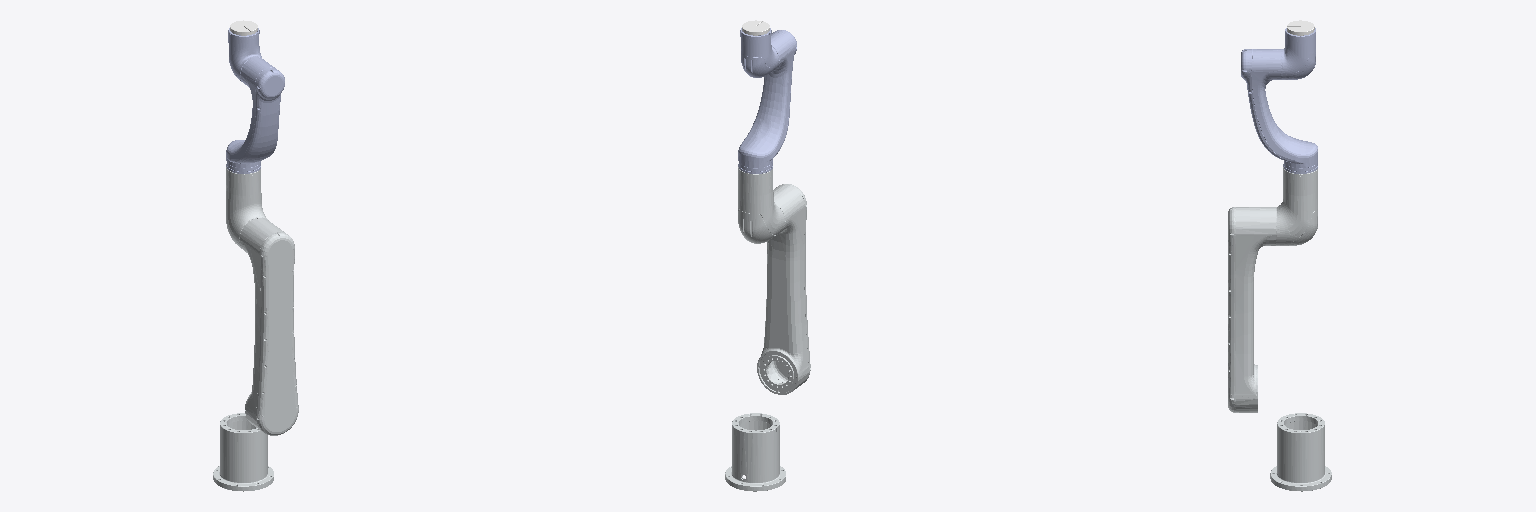
robot.urdf — arm5:
<?xml version="1.0" encoding="utf-8"?>
<!-- This URDF was automatically created by SolidWorks to URDF Exporter! Originally created by [author] ([email redacted]) 
     Commit Version: 1.6.0-1-g15f4949  Build Version: 1.6.7594.29634
     For more information, please see http://wiki.ros.org/sw_urdf_exporter -->
<robot
  name="arm5">
  <link
    name="base_link">
    <inertial>
      <origin
        xyz="-9.2887E-06 -9.8294E-05 0.068624"
        rpy="0 0 0" />
      <mass
        value="1.1128" />
      <inertia
        ixx="0.0052467"
        ixy="5.7766E-09"
        ixz="8.5242E-07"
        iyy="0.0052525"
        iyz="-4.3267E-06"
        izz="0.0039674" />
    </inertial>
    <visual>
      <origin
        xyz="0 0 0"
        rpy="0 0 0" />
      <geometry>
        <mesh
          filename="package://ti5_urdf/meshes/arm5/base_link.STL" />
      </geometry>
      <material
        name="">
        <color
          rgba="0.89804 0.91765 0.92941 1" />
      </material>
    </visual>
    <collision>
      <origin
        xyz="0 0 0"
        rpy="0 0 0" />
      <geometry>
        <mesh
          filename="package://ti5_urdf/meshes/arm5/base_link.STL" />
      </geometry>
    </collision>
  </link>
  <link
    name="A_Link">
    <inertial>
      <origin
        xyz="1.6753E-06 -0.031707 0.065087"
        rpy="0 0 0" />
      <mass
        value="1.0182" />
      <inertia
        ixx="0.0040614"
        ixy="1.5788E-07"
        ixz="1.6598E-07"
        iyy="0.0036671"
        iyz="0.0012879"
        izz="0.0037437" />
    </inertial>
    <visual>
      <origin
        xyz="0 0 0"
        rpy="0 0 0" />
      <geometry>
        <mesh
          filename="package://ti5_urdf/meshes/arm5/A_Link.STL" />
      </geometry>
      <material
        name="">
        <color
          rgba="0.79216 0.81961 0.93333 1" />
      </material>
    </visual>
    <collision>
      <origin
        xyz="0 0 0"
        rpy="0 0 0" />
      <geometry>
        <mesh
          filename="package://ti5_urdf/meshes/arm5/A_Link.STL" />
      </geometry>
    </collision>
  </link>
  <joint
    name="A"
    type="revolute">
    <origin
      xyz="0 0 0.155"
      rpy="0 0 0" />
    <parent
      link="base_link" />
    <child
      link="A_Link" />
    <axis
      xyz="0 0 -1" />
    <limit
      lower="-2.36"
      upper="2.36"
      effort="113"
      velocity="100" />
  </joint>
  <link
    name="B_Link">
    <inertial>
      <origin
        xyz="0.21678 -4.7082E-05 -0.027353"
        rpy="0 0 0" />
      <mass
        value="2.4481" />
      <inertia
        ixx="0.0038505"
        ixy="-7.7539E-06"
        ixz="-0.0022158"
        iyy="0.063937"
        iyz="-1.7612E-06"
        izz="0.065736" />
    </inertial>
    <visual>
      <origin
        xyz="0 0 0"
        rpy="0 0 0" />
      <geometry>
        <mesh
          filename="package://ti5_urdf/meshes/arm5/B_Link.STL" />
      </geometry>
      <material
        name="">
        <color
          rgba="0.89804 0.91765 0.92941 1" />
      </material>
    </visual>
    <collision>
      <origin
        xyz="0 0 0"
        rpy="0 0 0" />
      <geometry>
        <mesh
          filename="package://ti5_urdf/meshes/arm5/B_Link.STL" />
      </geometry>
    </collision>
  </link>
  <joint
    name="B"
    type="revolute">
    <origin
      xyz="0 -0.109 0.094"
      rpy="-1.5708 -1.5708 0" />
    <parent
      link="A_Link" />
    <child
      link="B_Link" />
    <axis
      xyz="0 0 1" />
    <limit
      lower="-2.36"
      upper="2.36"
      effort="113"
      velocity="100" />
  </joint>
  <link
    name="C_Link">
    <inertial>
      <origin
        xyz="0.056354 -5.0851E-06 0.044363"
        rpy="0 0 0" />
      <mass
        value="0.79018" />
      <inertia
        ixx="0.0015513"
        ixy="-3.6445E-07"
        ixz="-0.00075868"
        iyy="0.0032441"
        iyz="2.0648E-08"
        izz="0.0032718" />
    </inertial>
    <visual>
      <origin
        xyz="0 0 0"
        rpy="0 0 0" />
      <geometry>
        <mesh
          filename="package://ti5_urdf/meshes/arm5/C_Link.STL" />
      </geometry>
      <material
        name="">
        <color
          rgba="0.89804 0.91765 0.92941 1" />
      </material>
    </visual>
    <collision>
      <origin
        xyz="0 0 0"
        rpy="0 0 0" />
      <geometry>
        <mesh
          filename="package://ti5_urdf/meshes/arm5/C_Link.STL" />
      </geometry>
    </collision>
  </link>
  <joint
    name="C"
    type="revolute">
    <origin
      xyz="0.45 0 0.0465"
      rpy="0 0 0" />
    <parent
      link="B_Link" />
    <child
      link="C_Link" />
    <axis
      xyz="0 0 -1" />
    <limit
      lower="-2.36"
      upper="2.36"
      effort="51"
      velocity="100" />
  </joint>
  <link
    name="D_Link">
    <inertial>
      <origin
        xyz="5.6942E-05 0.053853 0.1263"
        rpy="0 0 0" />
      <mass
        value="1.3579" />
      <inertia
        ixx="0.01473"
        ixy="-1.0051E-07"
        ixz="3.0189E-07"
        iyy="0.013278"
        iyz="-0.0041455"
        izz="0.0034956" />
    </inertial>
    <visual>
      <origin
        xyz="0 0 0"
        rpy="0 0 0" />
      <geometry>
        <mesh
          filename="package://ti5_urdf/meshes/arm5/D_Link.STL" />
      </geometry>
      <material
        name="">
        <color
          rgba="0.79216 0.81961 0.93333 1" />
      </material>
    </visual>
    <collision>
      <origin
        xyz="0 0 0"
        rpy="0 0 0" />
      <geometry>
        <mesh
          filename="package://ti5_urdf/meshes/arm5/D_Link.STL" />
      </geometry>
    </collision>
  </link>
  <joint
    name="D"
    type="revolute">
    <origin
      xyz="0.1655 0 0.062"
      rpy="-1.5708 0 -1.5708" />
    <parent
      link="C_Link" />
    <child
      link="D_Link" />
    <axis
      xyz="0 0 1" />
    <limit
      lower="-2.36"
      upper="2.36"
      effort="51"
      velocity="100" />
  </joint>
  <link
    name="E_Link">
    <inertial>
      <origin
        xyz="0.029172 -7.3726E-07 0.037735"
        rpy="0 0 0" />
      <mass
        value="0.15884" />
      <inertia
        ixx="0.00020751"
        ixy="-5.7105E-08"
        ixz="-8.4674E-05"
        iyy="0.00029064"
        iyz="8.5066E-09"
        izz="0.00028242" />
    </inertial>
    <visual>
      <origin
        xyz="0 0 0"
        rpy="0 0 0" />
      <geometry>
        <mesh
          filename="package://ti5_urdf/meshes/arm5/E_Link.STL" />
      </geometry>
      <material
        name="">
        <color
          rgba="0.79216 0.81961 0.93333 1" />
      </material>
    </visual>
    <collision>
      <origin
        xyz="0 0 0"
        rpy="0 0 0" />
      <geometry>
        <mesh
          filename="package://ti5_urdf/meshes/arm5/E_Link.STL" />
      </geometry>
    </collision>
  </link>
  <joint
    name="E"
    type="revolute">
    <origin
      xyz="0 0.0495 0.284"
      rpy="1.5708 -1.5708 0" />
    <parent
      link="D_Link" />
    <child
      link="E_Link" />
    <axis
      xyz="0 0 -1" />
    <limit
      lower="-2.36"
      upper="2.36"
      effort="11.6"
      velocity="100" />
  </joint>
  <link
    name="F_Link">
    <inertial>
      <origin
        xyz="5.5511E-17 -9.9848E-05 0.0049797"
        rpy="0 0 0" />
      <mass
        value="0.038211" />
      <inertia
        ixx="1.198E-05"
        ixy="5.0244E-23"
        ixz="5.4546E-21"
        iyy="1.2069E-05"
        iyz="1.3619E-08"
        izz="2.3416E-05" />
    </inertial>
    <visual>
      <origin
        xyz="0 0 0"
        rpy="0 0 0" />
      <geometry>
        <mesh
          filename="package://ti5_urdf/meshes/arm5/F_Link.STL" />
      </geometry>
      <material
        name="">
        <color
          rgba="1 1 1 1" />
      </material>
    </visual>
    <collision>
      <origin
        xyz="0 0 0"
        rpy="0 0 0" />
      <geometry>
        <mesh
          filename="package://ti5_urdf/meshes/arm5/F_Link.STL" />
      </geometry>
    </collision>
  </link>
  <joint
    name="F"
    type="revolute">
    <origin
      xyz="0.0955 0 0.049"
      rpy="-1.5708 0 -1.5708" />
    <parent
      link="E_Link" />
    <child
      link="F_Link" />
    <axis
      xyz="0 0 1" />
    <limit
      lower="-2.36"
      upper="2.36"
      effort="11.6"
      velocity="100" />
  </joint>
</robot>

--- Facts derived from the render (not from the file) ---
3 views of the same robot in one strip: view 1: azimuth 30°, elevation 25°; view 2: azimuth 150°, elevation 25°; view 3: azimuth 270°, elevation 25° (orthographic).
Model arm5 with 7 links and 6 joints (6 revolute), rooted at base_link, posed all joints at 0.
Links seen in each view (by area): view 1: B_Link, D_Link, base_link, C_Link, E_Link; view 2: B_Link, D_Link, base_link, C_Link, E_Link; view 3: B_Link, D_Link, base_link, C_Link, E_Link.
Boxes of the visible links, left/top/right/bottom form: B_Link: left=240, top=218, right=298, bottom=435; D_Link: left=226, top=57, right=284, bottom=173; base_link: left=213, top=413, right=273, bottom=491; C_Link: left=226, top=167, right=267, bottom=248; E_Link: left=228, top=28, right=261, bottom=81; B_Link: left=757, top=184, right=810, bottom=394; D_Link: left=738, top=30, right=796, bottom=173; base_link: left=725, top=413, right=785, bottom=491; C_Link: left=738, top=167, right=784, bottom=243; E_Link: left=740, top=28, right=778, bottom=77; B_Link: left=1228, top=207, right=1275, bottom=412; D_Link: left=1241, top=49, right=1317, bottom=173; base_link: left=1270, top=413, right=1331, bottom=491; C_Link: left=1276, top=167, right=1317, bottom=245; E_Link: left=1281, top=28, right=1315, bottom=79.
Size in the robot's own frame: 0.1538 by 0.26 by 1.25 metres.
6 mesh visuals loaded from 7 distinct referenced files (6 binary STL); not drawn: 1 (reference not matched to a file when rendering).